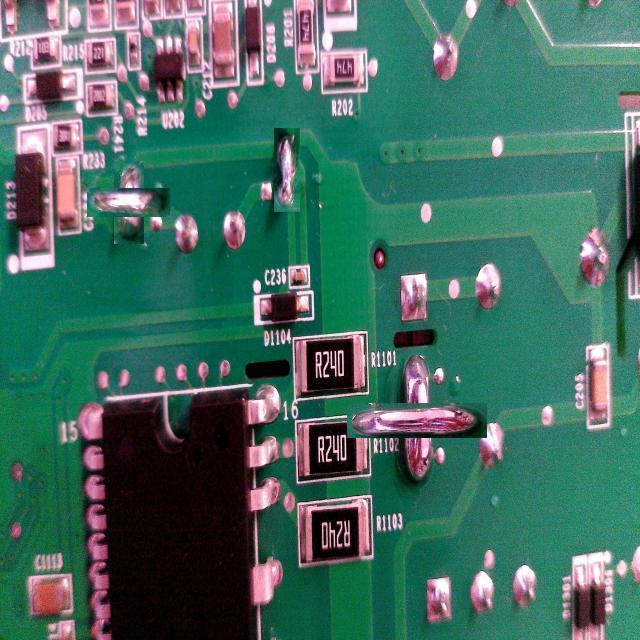Short_circuit: (374, 376, 462, 464), (101, 174, 157, 231), (274, 128, 300, 212)
